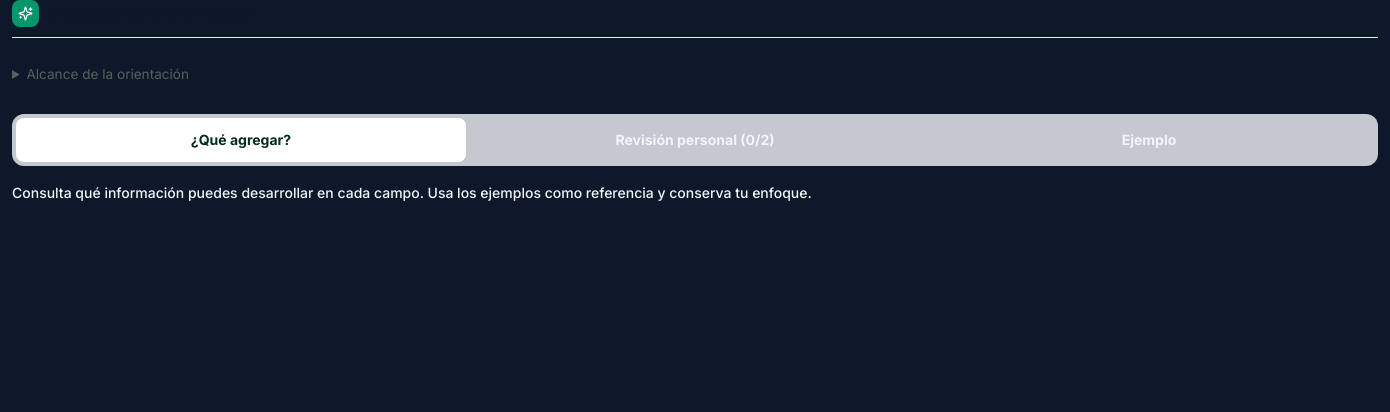
permite revisar e informa si el navegador impide conservar las marcas
Click the button "Revisión personal (0/2)". click: (695, 140)
box: [470, 118, 920, 162]
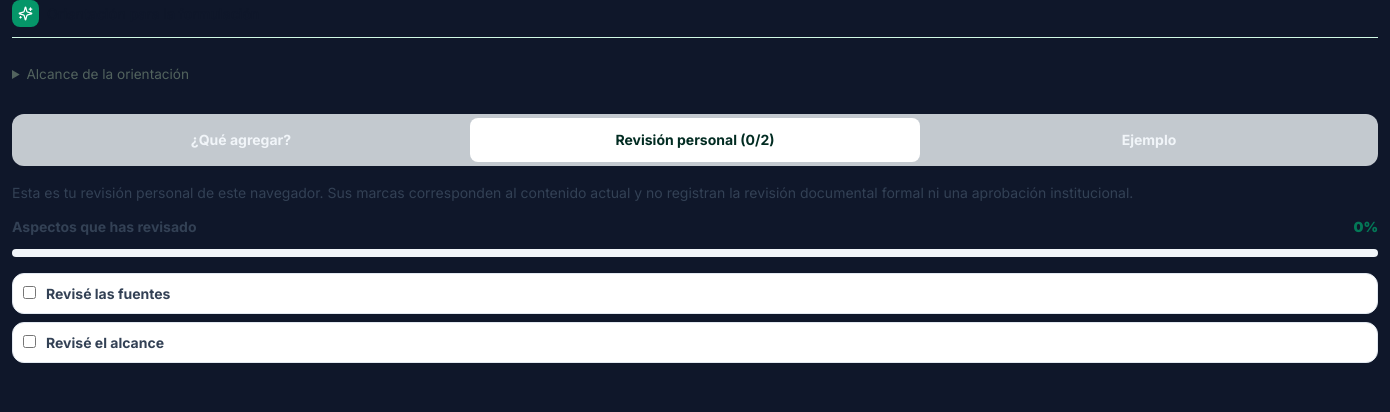
Click the checkbox labelled "Revisé las fuentes". click: (30, 292)
box: [23, 286, 36, 299]
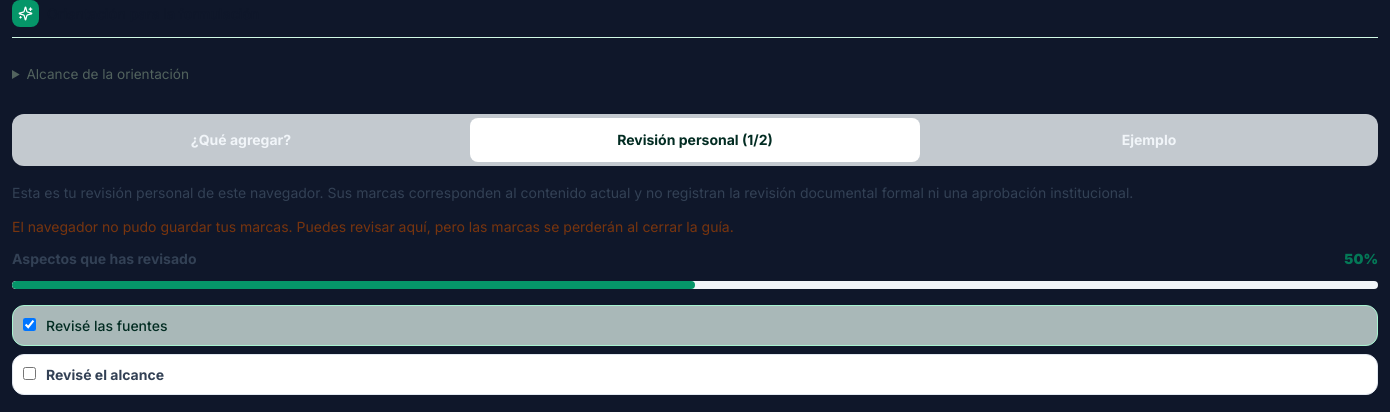
Result: the checkbox labelled "Revisé las fuentes" is checked at [23, 318, 36, 331]
Result: the message shows "no pudo guardar" at [12, 218, 734, 235]
